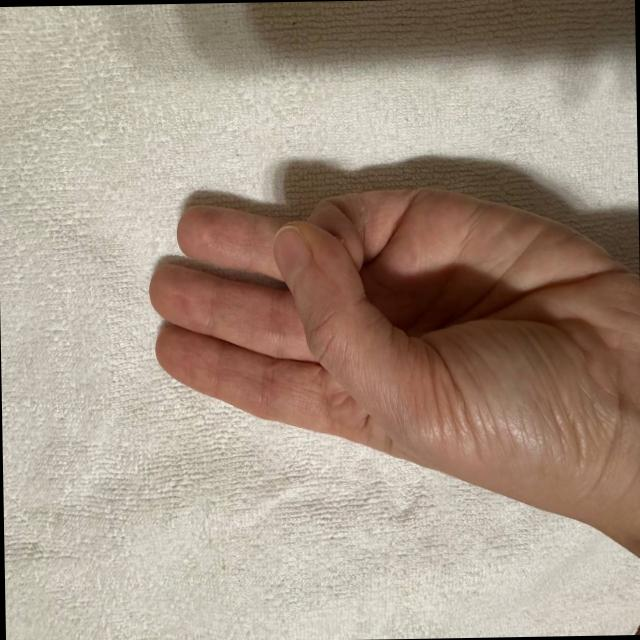sh: (128, 164, 626, 498)
